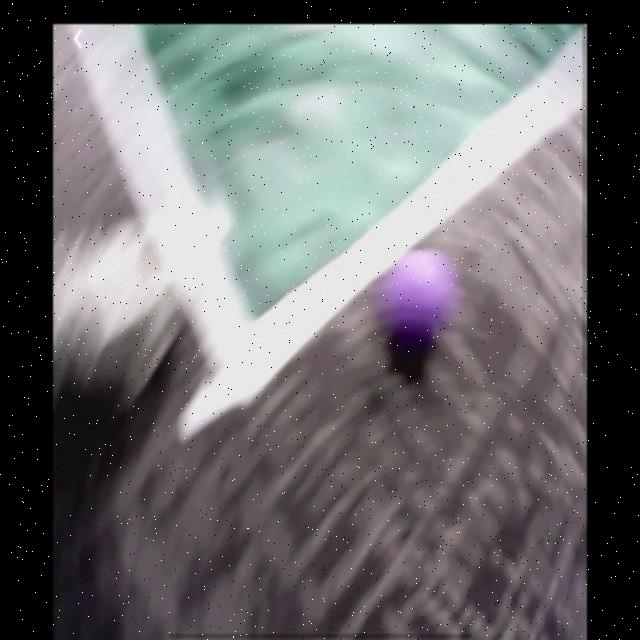ball: (386, 249, 448, 342)
